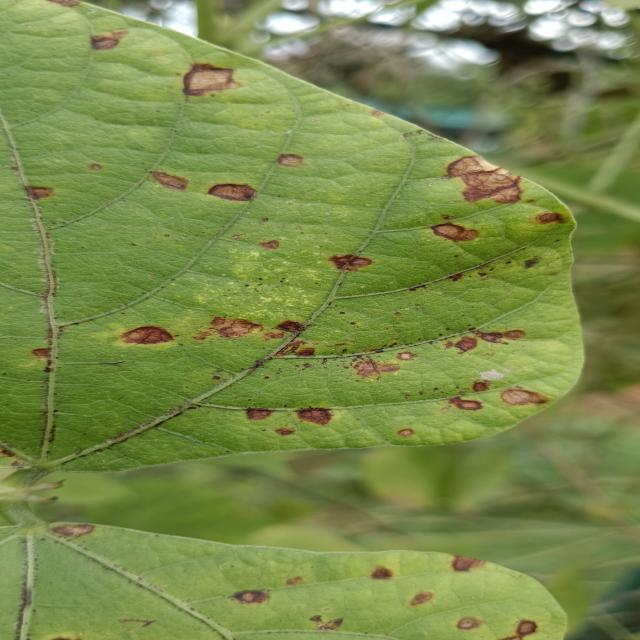Dolicos bean_cercospora leaf spot: (0, 0, 578, 473)
